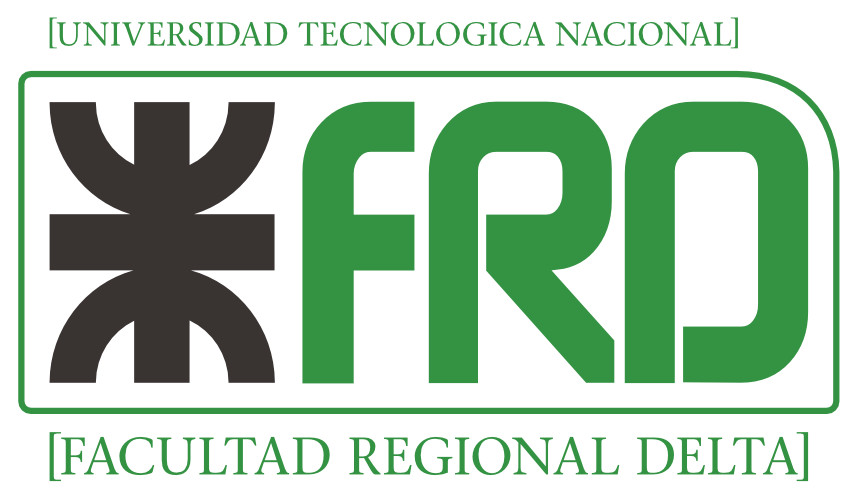utn: (44, 95, 287, 388)
